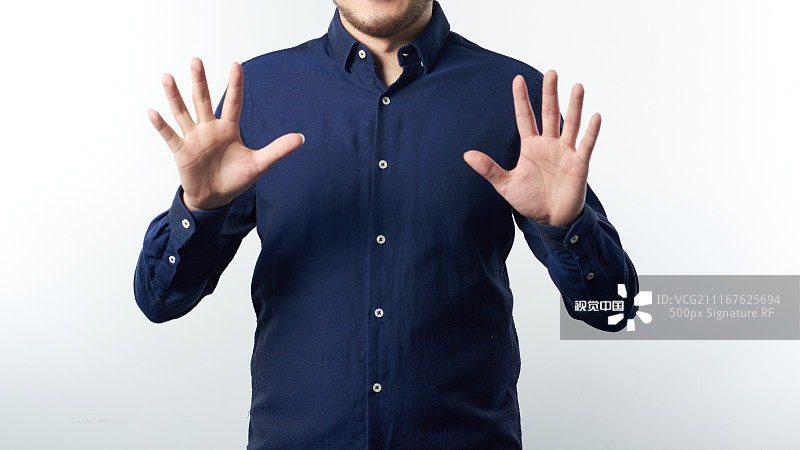no-phone: (129, 42, 314, 219), (454, 56, 622, 241)
